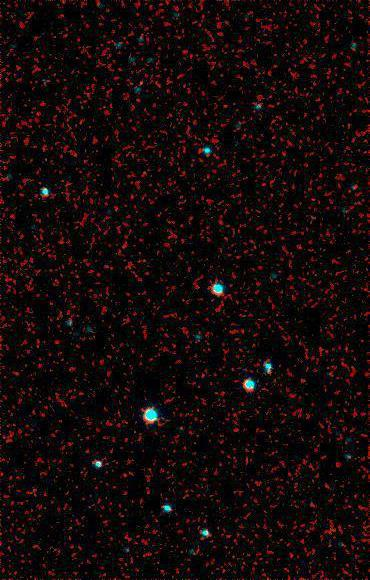star: (128, 63, 158, 93)
